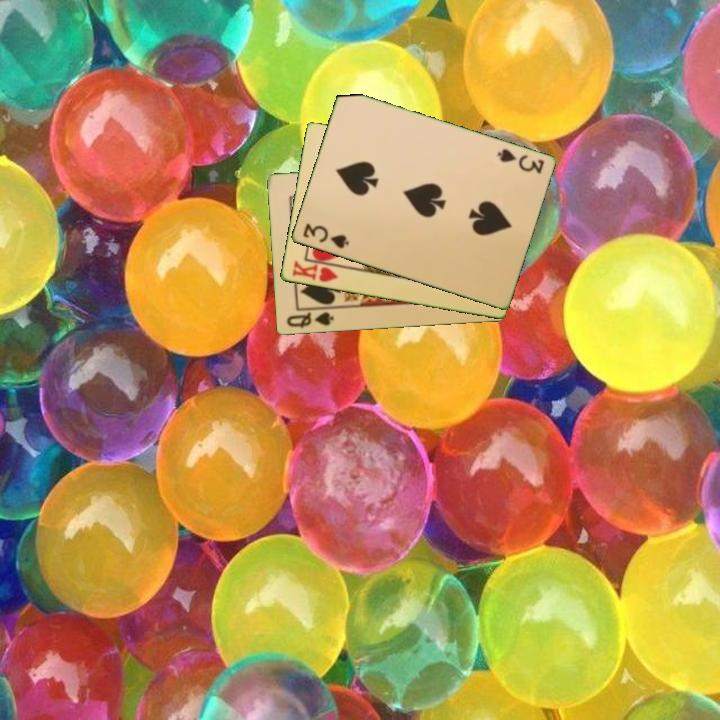3s: (493, 145, 547, 177), (299, 220, 352, 252)
Kh: (288, 257, 345, 285)
Qs: (283, 309, 336, 331)
